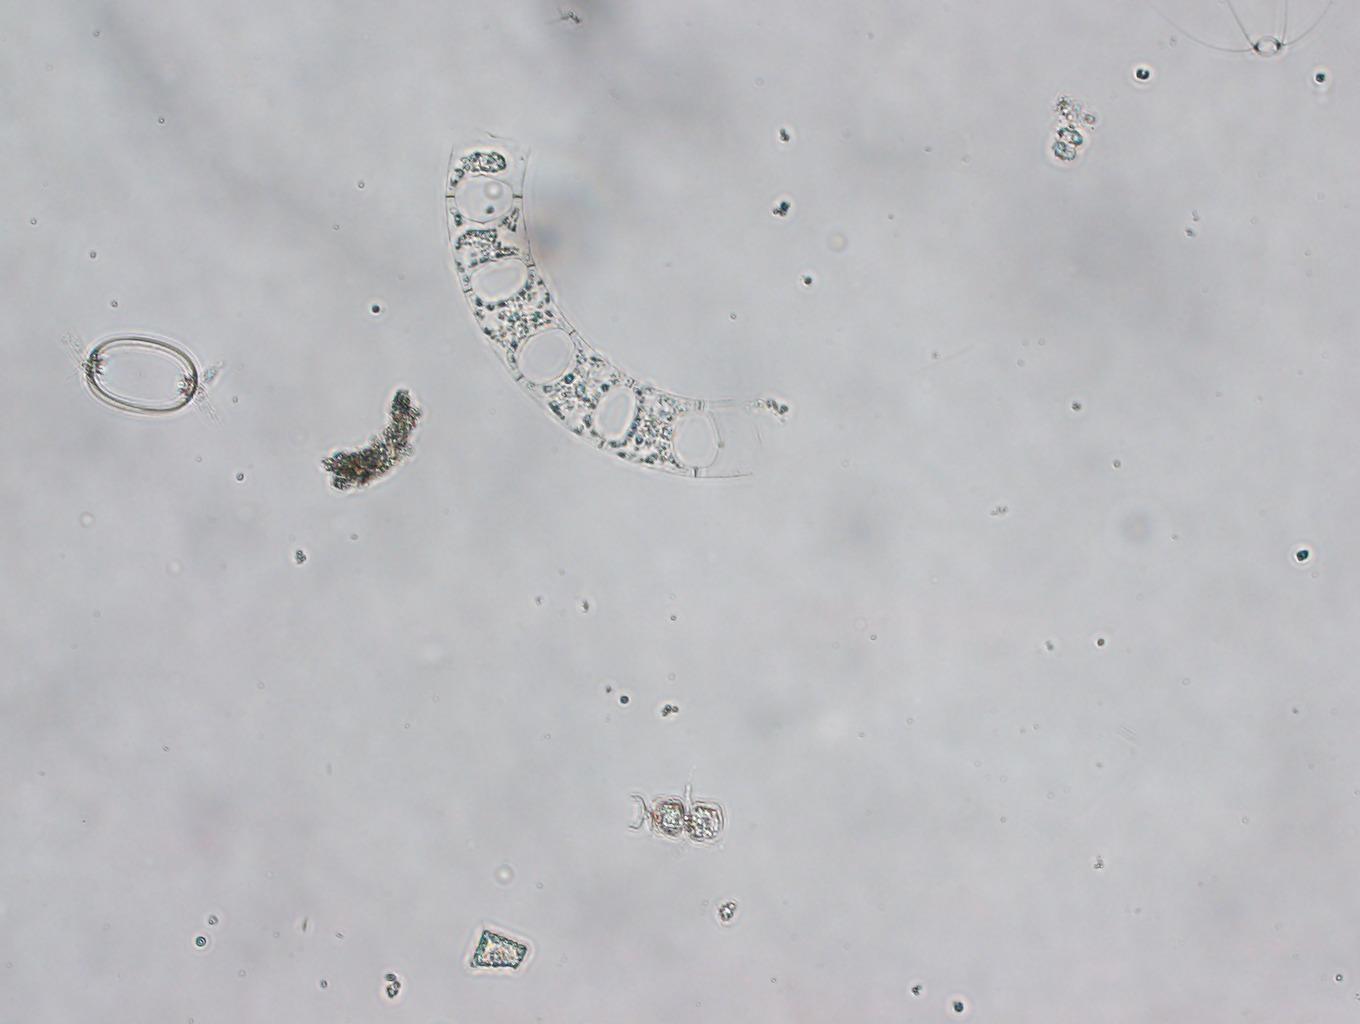chaetoceros: (1147, 1, 1336, 58)
eucampia: (443, 131, 767, 480)
